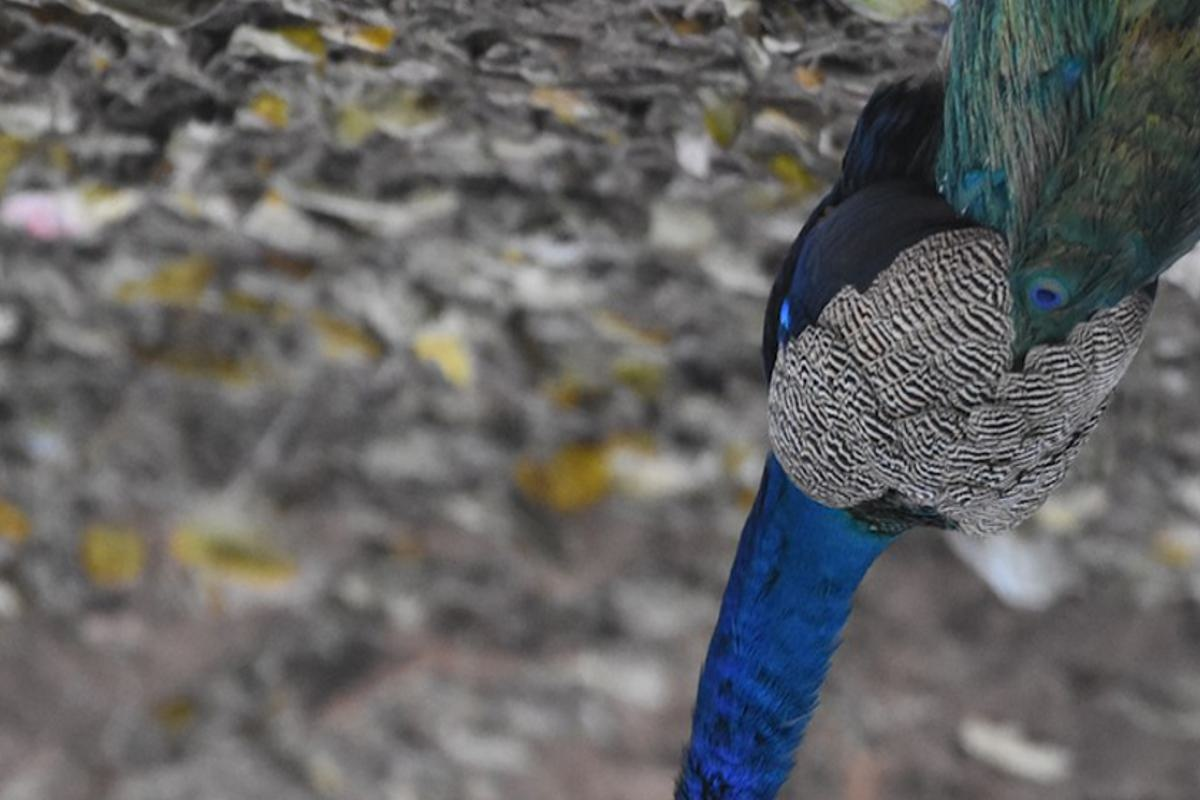peacock: (649, 1, 1161, 794)
